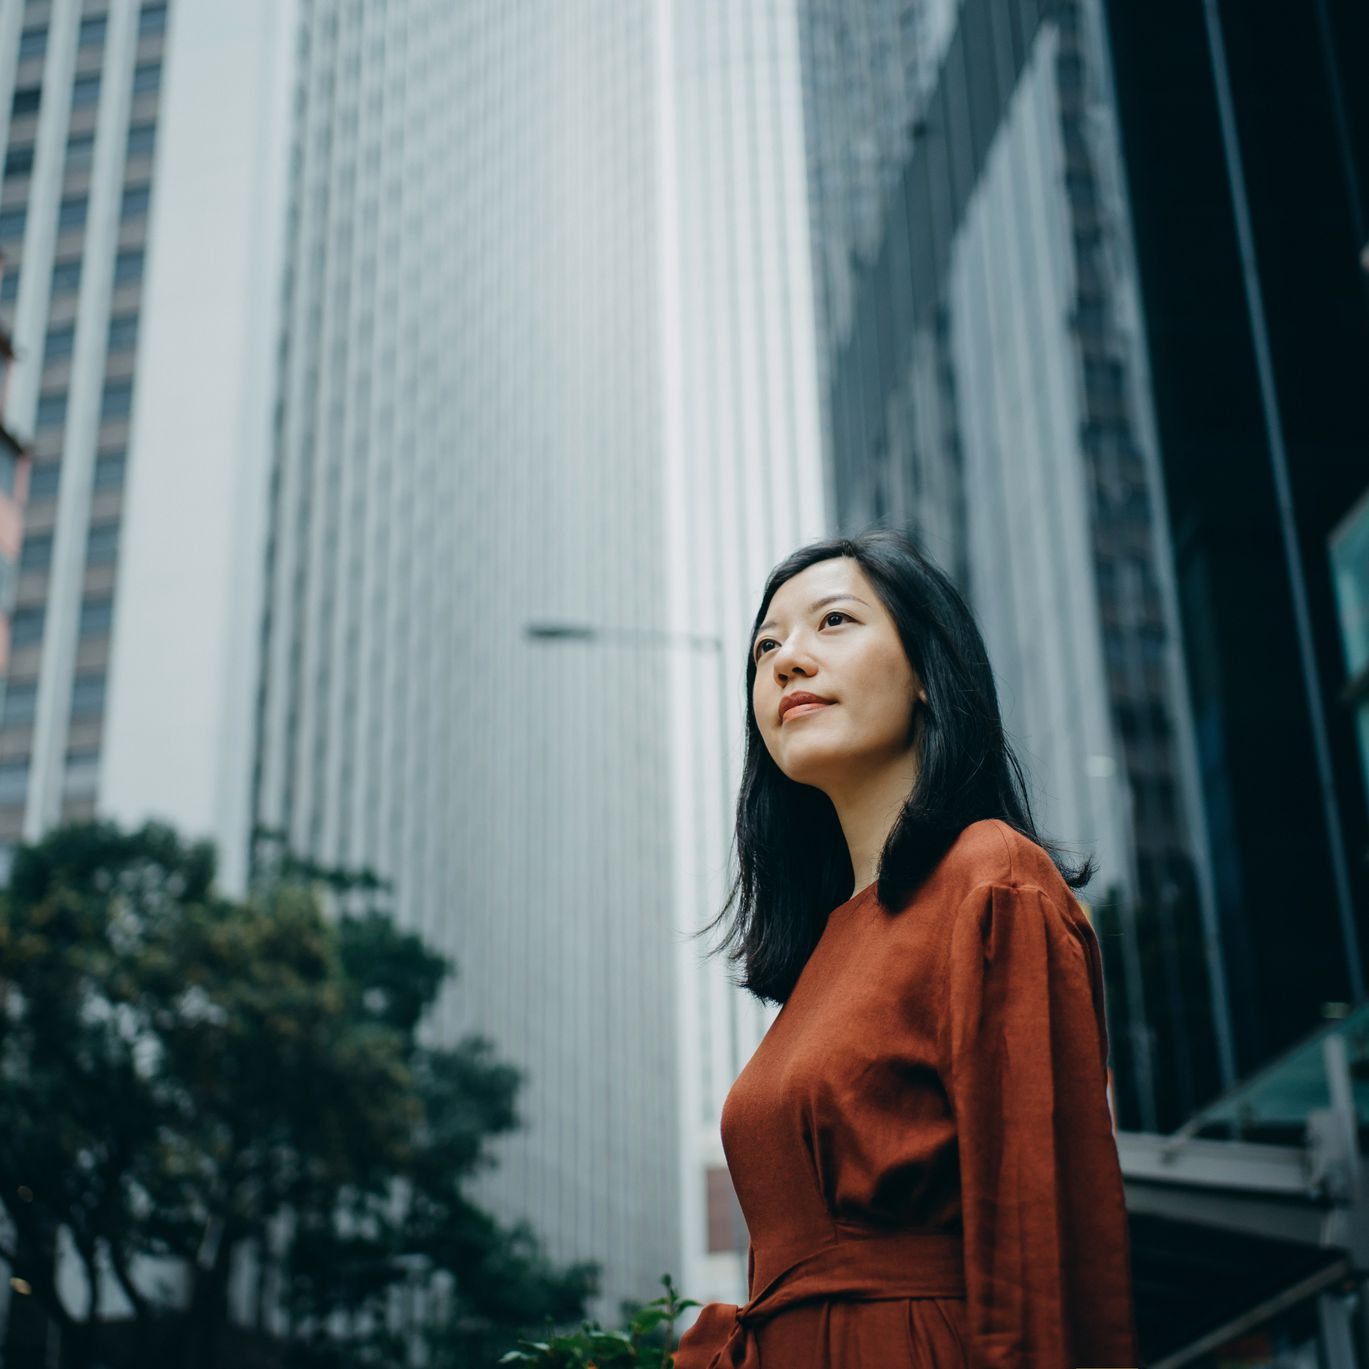bare: (727, 651, 923, 768)
